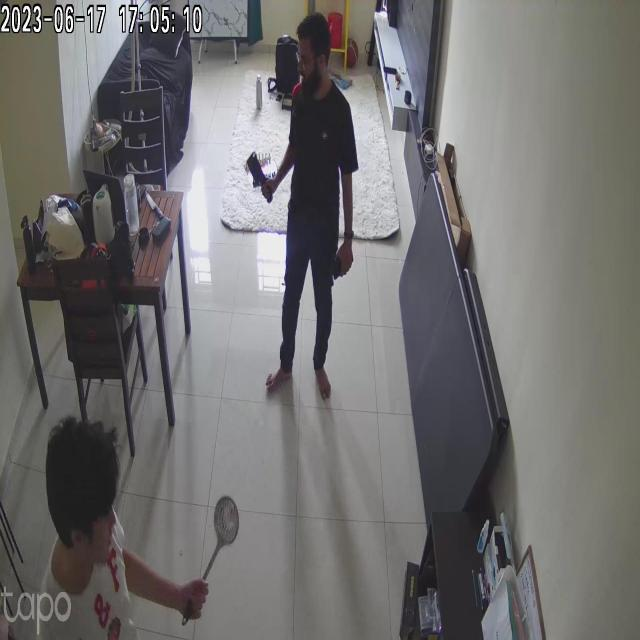Knife: (237, 153, 275, 214)
